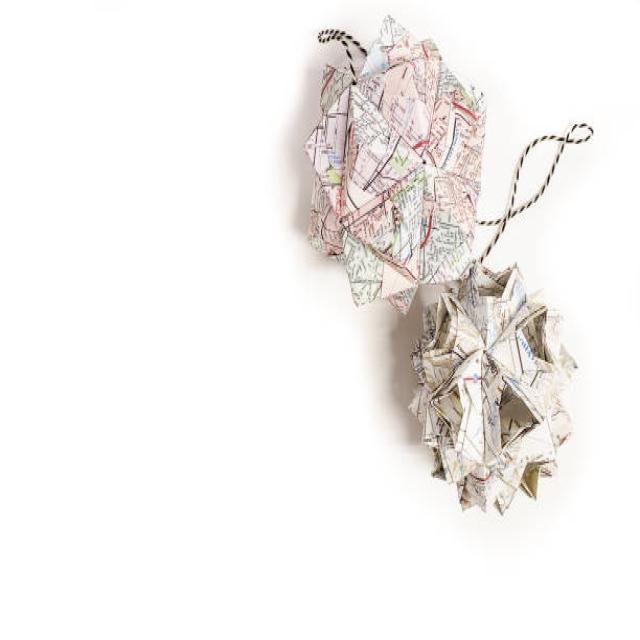electronic: (302, 13, 486, 314), (408, 258, 578, 516)
